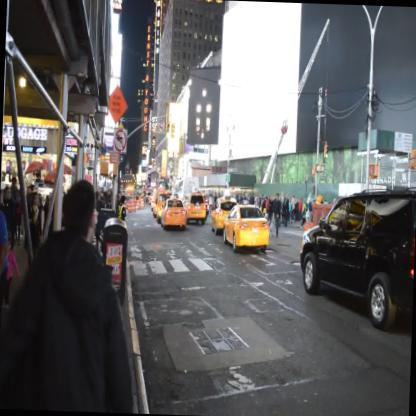car: (298, 187, 415, 333), (223, 205, 270, 255), (211, 198, 237, 236), (160, 200, 186, 232), (184, 193, 207, 226)
motorcycle: (269, 214, 276, 237)
